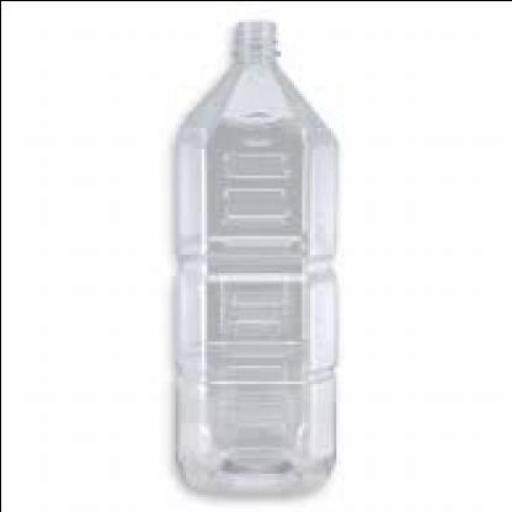plastic: (177, 18, 340, 494)
